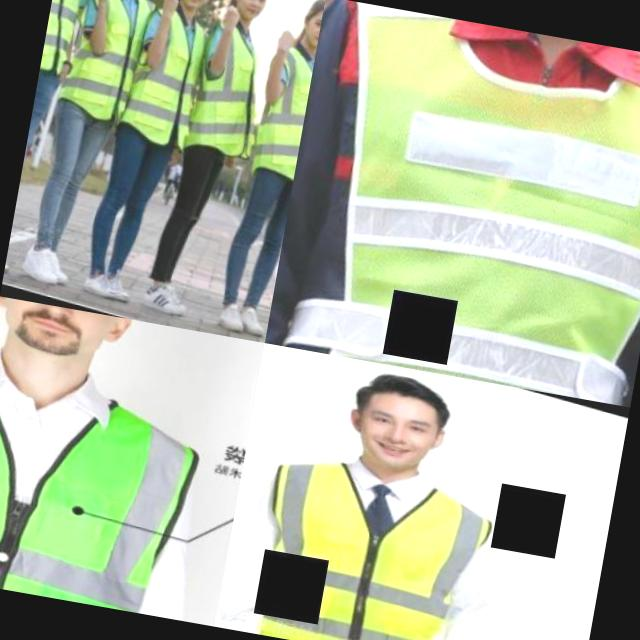vest: (290, 0, 640, 407), (0, 360, 219, 620), (247, 457, 496, 640), (125, 14, 207, 150), (60, 0, 147, 117), (191, 27, 266, 156), (249, 52, 314, 174), (40, 0, 87, 69)
